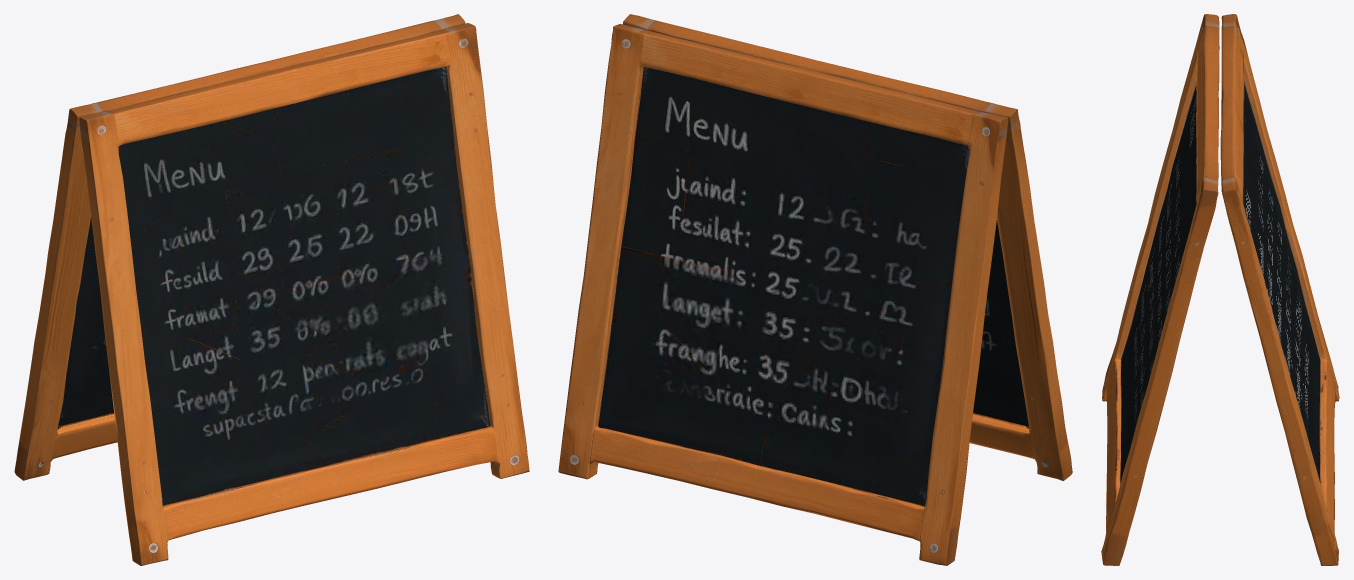
The model's file is a-board.glb.
3 renders of one model, left to right at view 1: azimuth 30°, elevation 25°; view 2: azimuth 150°, elevation 25°; view 3: azimuth 270°, elevation 25°, orthographic. The views are drawn at different scales.
Size of the model in its own units: 1 by 1 by 0.5737.
1 material, 1 textured.
